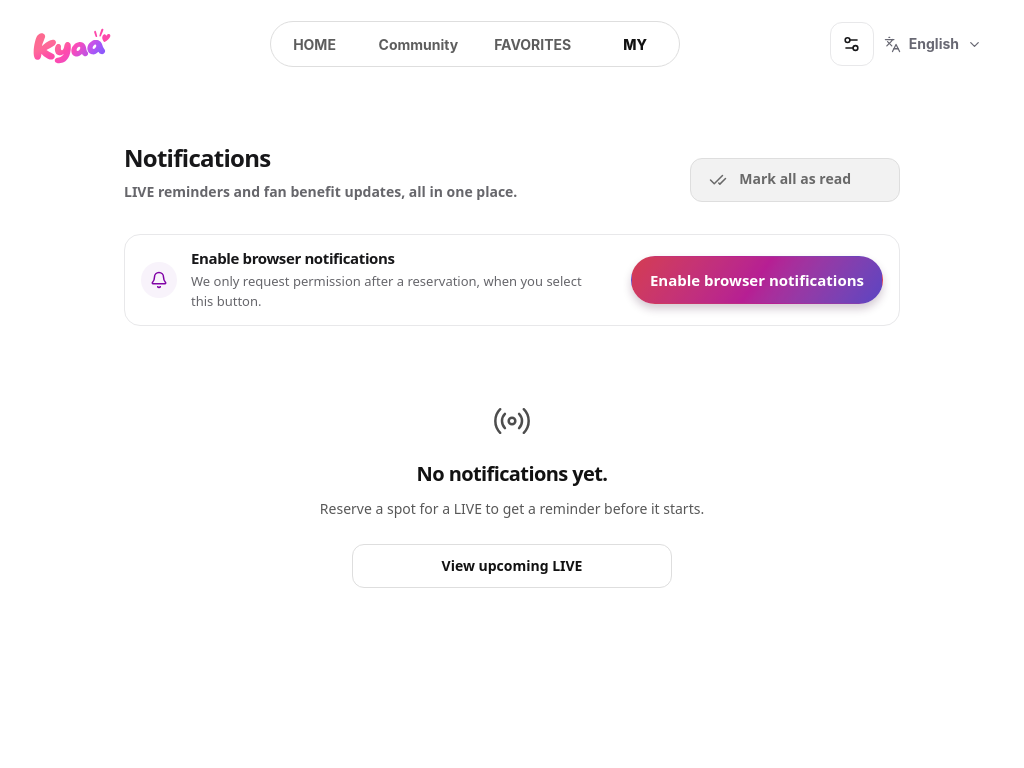
Test case: FAN-019 Notification Center › announces the English subscribed push result
Expected: the heading "No notifications yet." is shown, [417,461,607,486]
Click the button "Enable browser notifications" at point(757, 280), box [631,256,883,304]
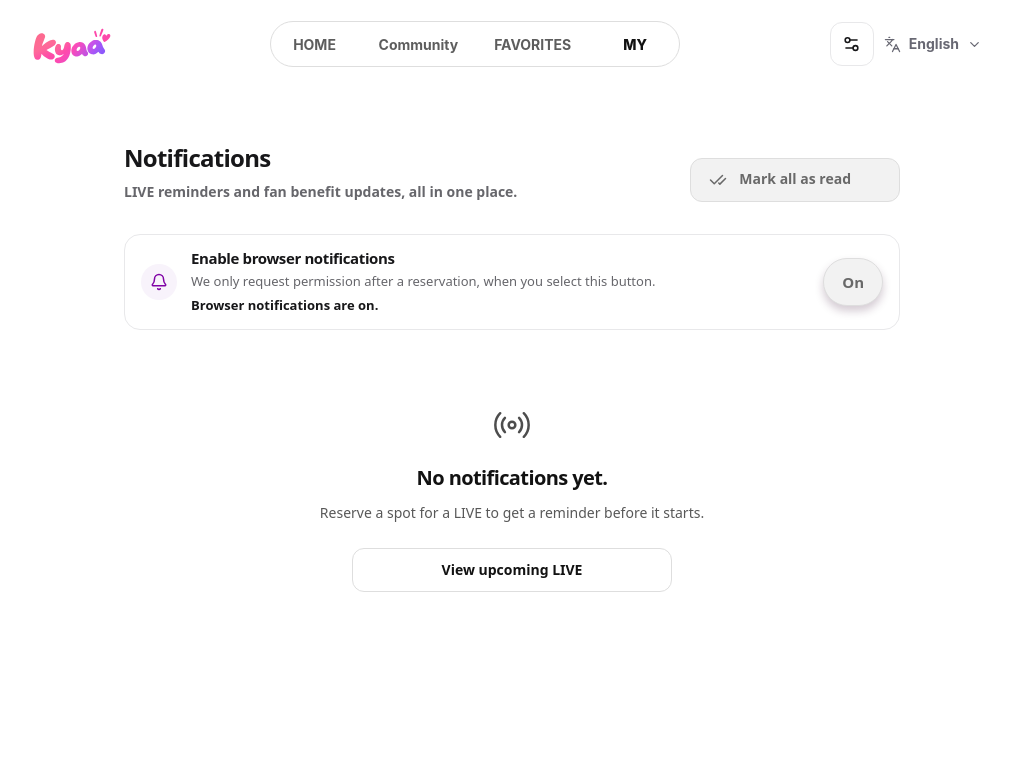
Expected: the text "Browser notifications are on." is shown, [191,296,378,314]
